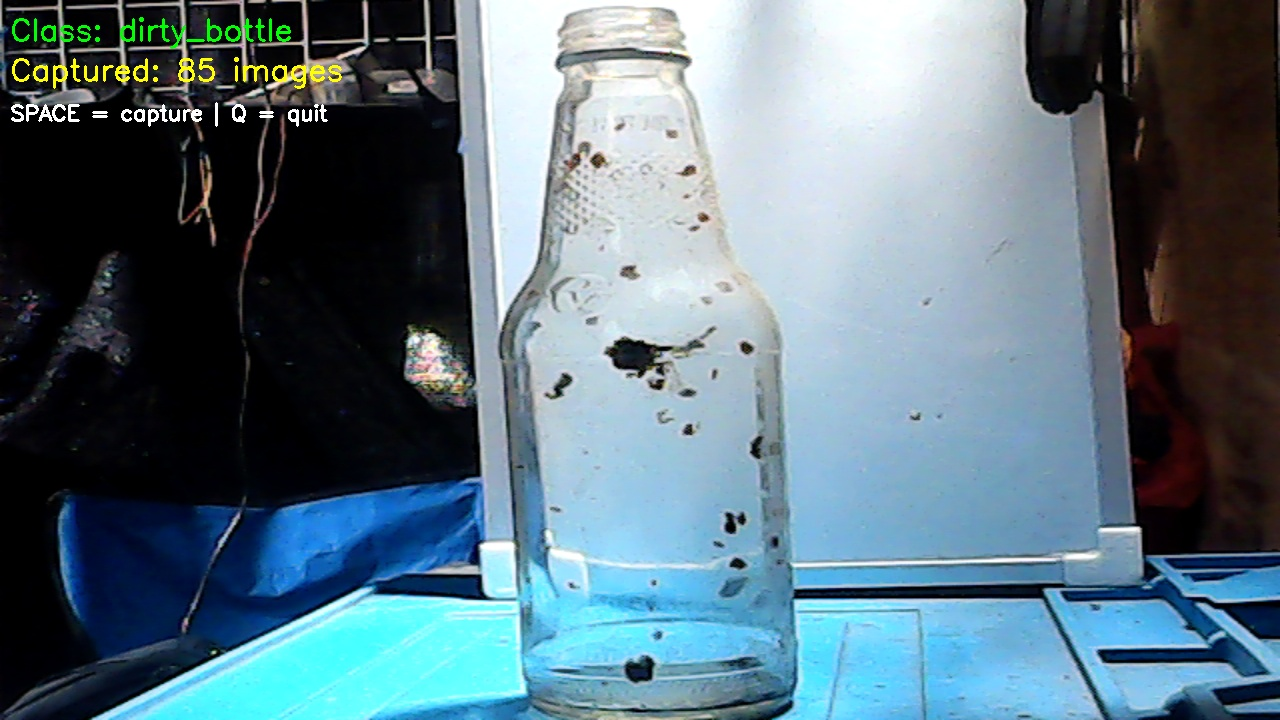dirty_bottle: (484, 4, 807, 719)
